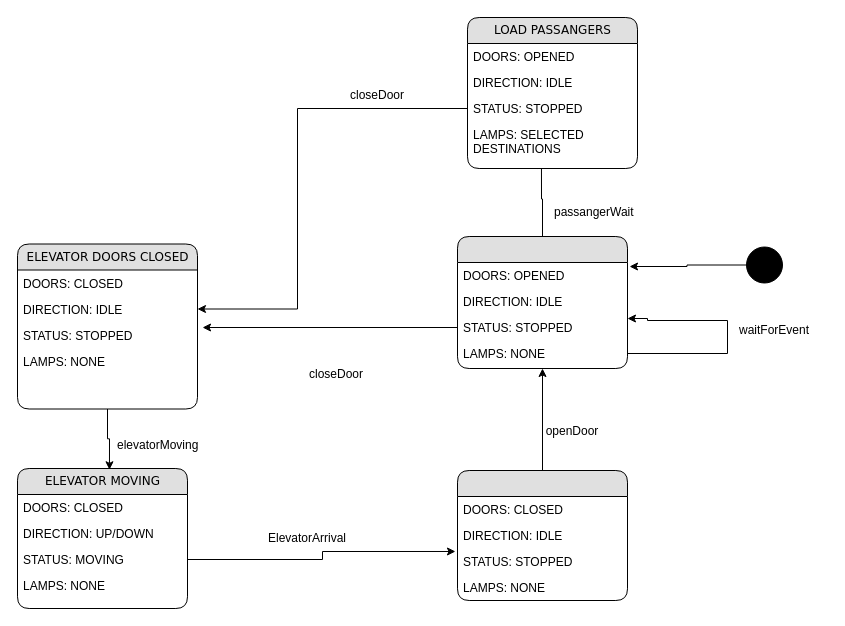
The diagram is 845 pixels wide and 626 high, and some of its shapes have lost their labels. The shapes that lost their labels are listed below. From the top down, each one's box as (x1, y1, x2, y2) in pixels, then its label:
(456, 236, 628, 368): ELEVATOR OPEN DOOR
(456, 470, 628, 600): ELEVATOR ARRIVAL
